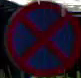No waiting: (4, 0, 80, 77)
